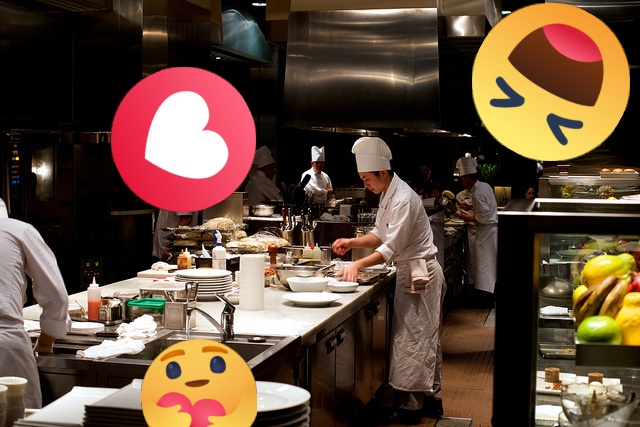care: (141, 339, 257, 427)
haha: (472, 3, 630, 161)
love: (111, 67, 256, 212)
